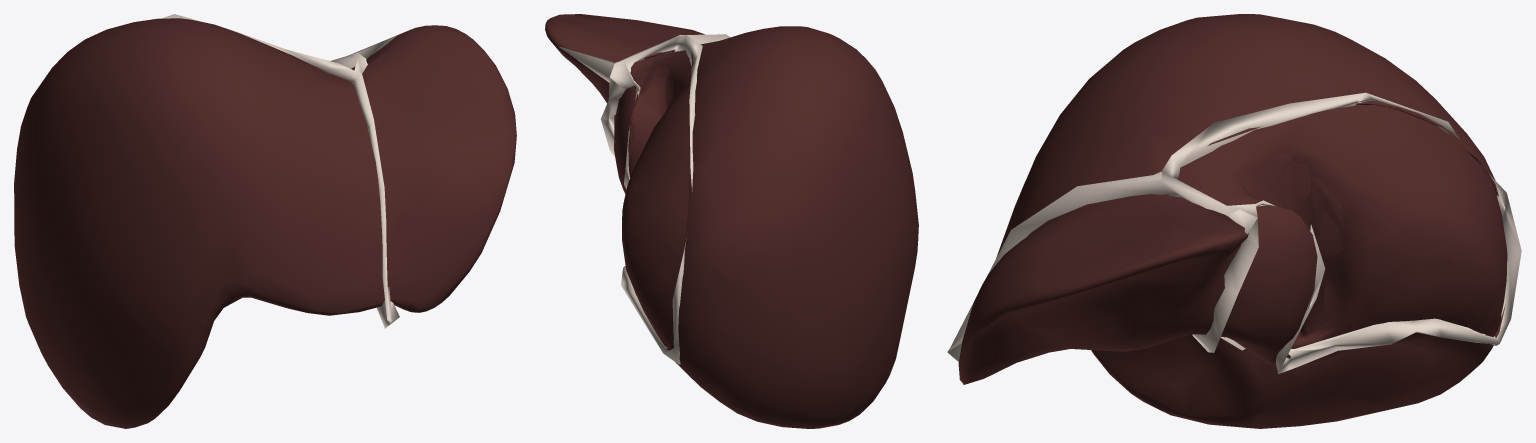
The model's file is hra-liver.glb.
The picture shows the model from 3 angles, left to right: view 1: azimuth 30°, elevation 25°; view 2: azimuth 150°, elevation 25°; view 3: azimuth 270°, elevation 25°; orthographic projection. The views are drawn at different scales.
Visible parts, largest first — view 1: VH_M_bare_area_of_liver, VH_M_hepataduodenal_ligament; view 2: VH_M_bare_area_of_liver, VH_M_hepataduodenal_ligament; view 3: VH_M_bare_area_of_liver, VH_M_hepataduodenal_ligament.
Boxes of the visible parts, bbox=[...] form: VH_M_bare_area_of_liver: bbox=[14, 18, 516, 428]; VH_M_hepataduodenal_ligament: bbox=[162, 14, 410, 328]; VH_M_bare_area_of_liver: bbox=[545, 14, 918, 428]; VH_M_hepataduodenal_ligament: bbox=[558, 34, 730, 364]; VH_M_bare_area_of_liver: bbox=[958, 14, 1507, 428]; VH_M_hepataduodenal_ligament: bbox=[947, 92, 1521, 373].
Bounding box in the file's own units: 0.1911 × 0.1746 × 0.2018.
